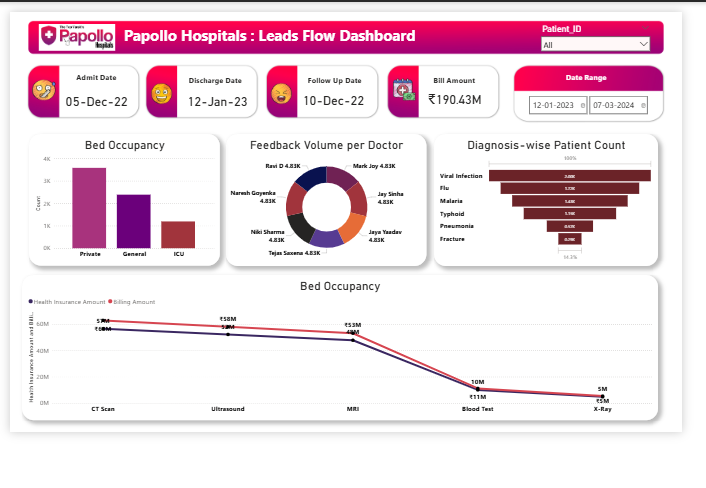

This screenshot's page, from the dashboard's own definition file:
{"tool":"powerbi","page":{"name":"Page 2","canvas":[1680,1050],"ordinal":0},"visuals":[{"type":"textbox","box":[280,27.1,755.7,74.3],"z":0},{"type":"image","box":[2636.7,100,623.3,150],"z":1000},{"type":"slicer","fields":{"Values":["Sheet1.Patient_ID"]},"box":[2400,373.3,793.3,420],"z":2000},{"type":"card","fields":{"Values":["Min(Sheet1.Admit_Date)"]},"box":[437.6,198.8,162.9,42.8],"z":3000},{"type":"card","fields":{"Values":["Min(Sheet1.Discharge_Date)"]},"box":[129.8,198.8,172.6,42.8],"z":4000},{"type":"card","fields":{"Values":["Min(Sheet1.Followup Date)"]},"box":[724.3,198.6,167.1,42.9],"z":5000},{"type":"textbox","box":[152.9,145.7,127.1,57.1],"z":6000},{"type":"textbox","box":[437.1,151.4,151.4,37.1],"z":7000},{"type":"textbox","box":[732.9,151.4,158.6,37.1],"z":8000},{"type":"textbox","box":[1035.7,151.4,151.4,37.1],"z":9000},{"type":"card","fields":{"Values":["Sum(Sheet1.Billing Amount)"]},"box":[1031.4,194.3,158.6,42.9],"z":10000},{"type":"image","box":[50,157.1,68.6,74.3],"z":11000},{"type":"image","box":[348.6,172.9,62.9,62.9],"z":12000},{"type":"image","box":[640,171.4,77.1,62.9],"z":13000},{"type":"image","box":[951.4,158.6,65.7,71.4],"z":14000},{"type":"columnChart","title":"Bed Occupancy","fields":{"Category":["Sheet1.Bed_Occupancy"],"Y":["CountNonNull(Sheet1.Bed_Occupancy)"]},"box":[47.1,305.7,477.1,328.6],"z":15000},{"type":"donutChart","title":"Feedback Volume per Doctor","fields":{"Category":["Sheet1.Doctor"],"Y":["Sum(Sheet1.Feedback)"]},"box":[540.2,305.2,501,329.5],"z":16000},{"type":"funnel","title":"Diagnosis-wise Patient Count","fields":{"Category":["Sheet1.Diagnosis"],"Y":["CountNonNull(Sheet1.Diagnosis)"]},"box":[1060,305.7,560,330],"z":17000},{"type":"image","box":[30,24.3,274.3,77.1],"z":18000},{"type":"lineChart","title":"Bed Occupancy","fields":{"Y":["Sum(Sheet1.Health Insurance Amount)","Sum(Sheet1.Billing Amount)"],"Category":["Sheet1.Test"]},"box":[31.1,656.3,1589.5,363.3],"z":19000},{"type":"slicer","fields":{"Values":["Sheet1.Admit_Date"]},"box":[1284.3,201.2,360.6,68.9],"z":20000},{"type":"slicer","fields":{"Values":["Sheet1.Patient_ID"]},"box":[1317.1,24.3,292.9,82.9],"z":21000},{"type":"textbox","box":[1365.7,145.7,151.4,37.1],"z":22000}]}

Visuals, with their boxes on the page's 1680x1050 design canvas (x1, y1, x2, y2). These are canvas units, not pixel positions in the 706x488 screenshot, which may show the page scaled, cropped or inside an application window:
textbox: (280,27,1036,101)
image: (2637,100,3260,250)
slicer - Sheet1.Patient_ID: (2400,373,3193,793)
card - Min(Sheet1.Admit_Date): (438,199,600,242)
card - Min(Sheet1.Discharge_Date): (130,199,302,242)
card - Min(Sheet1.Followup Date): (724,199,891,242)
textbox: (153,146,280,203)
textbox: (437,151,588,188)
textbox: (733,151,892,188)
textbox: (1036,151,1187,188)
card - Sum(Sheet1.Billing Amount): (1031,194,1190,237)
image: (50,157,119,231)
image: (349,173,412,236)
image: (640,171,717,234)
image: (951,159,1017,230)
"Bed Occupancy" columnChart: (47,306,524,634)
"Feedback Volume per Doctor" donutChart: (540,305,1041,635)
"Diagnosis-wise Patient Count" funnel: (1060,306,1620,636)
image: (30,24,304,101)
"Bed Occupancy" lineChart: (31,656,1621,1020)
slicer - Sheet1.Admit_Date: (1284,201,1645,270)
slicer - Sheet1.Patient_ID: (1317,24,1610,107)
textbox: (1366,146,1517,183)
